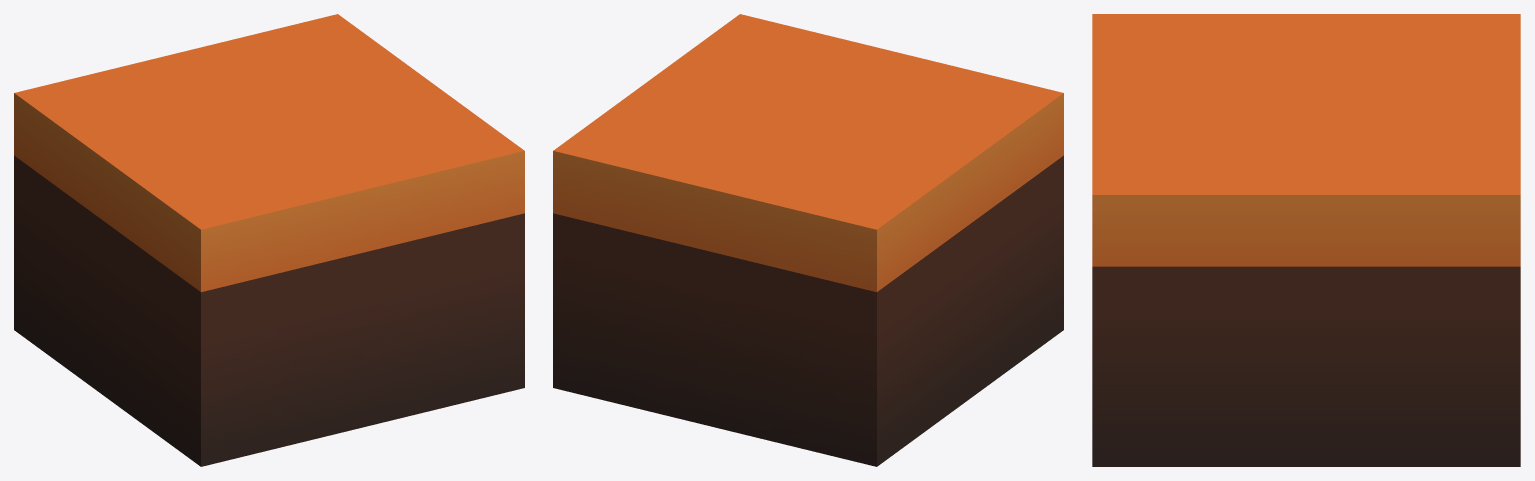
The model's file is m_SheetCake07_Slice03.fbx.
The picture shows the model from 3 angles, left to right: view 1: azimuth 30°, elevation 25°; view 2: azimuth 150°, elevation 25°; view 3: azimuth 270°, elevation 25°; orthographic projection. The views are drawn at different scales.
Visible parts, largest first — view 1: m_SheetCake07_Slice03; view 2: m_SheetCake07_Slice03; view 3: m_SheetCake07_Slice03.
Boxes of the visible parts, bbox=[...] form: m_SheetCake07_Slice03: bbox=[14, 14, 524, 466]; m_SheetCake07_Slice03: bbox=[553, 14, 1063, 466]; m_SheetCake07_Slice03: bbox=[1092, 14, 1520, 466].
Bounding box in the file's own units: 10 × 7 × 10.
